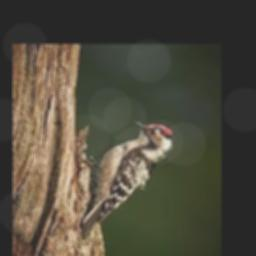Woodpecker: (82, 120, 174, 237)
